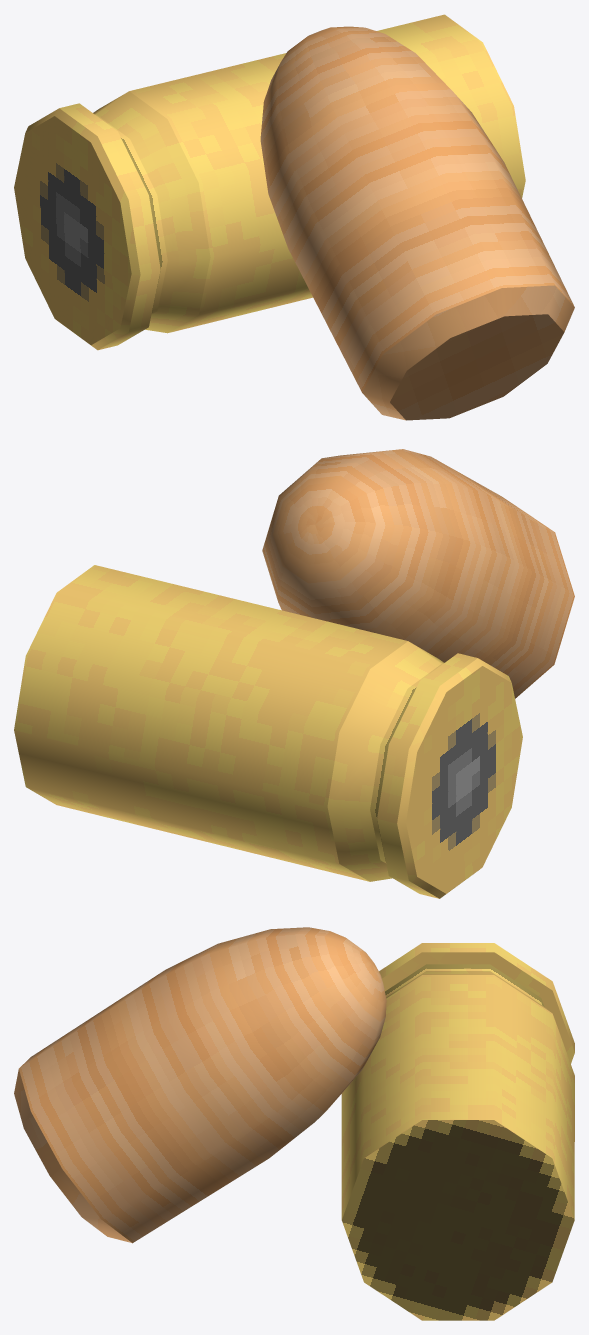
File: ammomaker_PartsStraightS.fbx
3 renders of one model, top to bottom at view 1: azimuth 30°, elevation 25°; view 2: azimuth 150°, elevation 25°; view 3: azimuth 270°, elevation 25°, orthographic. The views are drawn at different scales.
Parts seen in each view (by area): view 1: ammomaker_PartsStraightS; view 2: ammomaker_PartsStraightS; view 3: ammomaker_PartsStraightS.
Boxes of the visible parts, x1,y1,x2,y2 form: ammomaker_PartsStraightS: (14, 14, 574, 420); ammomaker_PartsStraightS: (14, 449, 574, 898); ammomaker_PartsStraightS: (14, 927, 574, 1320).
Size of the model in its own units: 1.73 by 1.33 by 2.28.
